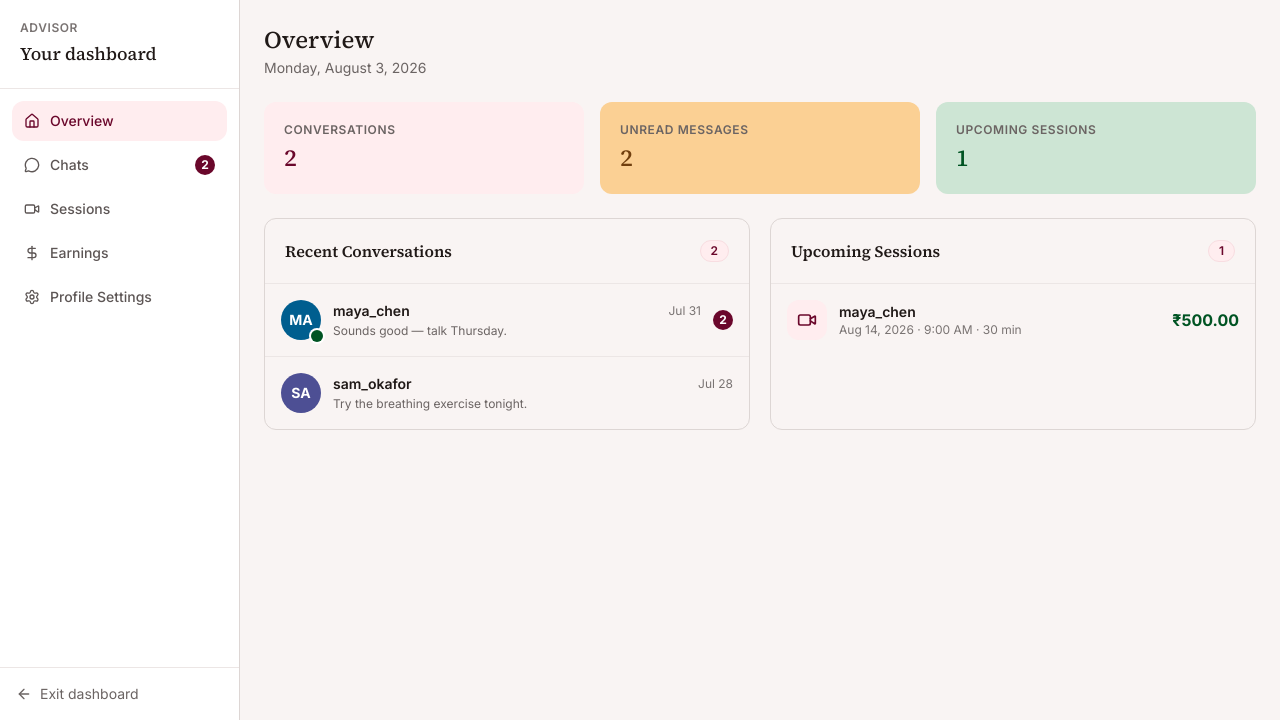
Test: AdvisorDashboardPage › chats tab › filters the rendered list by the search box
The width and height of the screenshot is (1280, 720).
Click the button "Chats 2" at (120, 165), box [12,145,227,185]
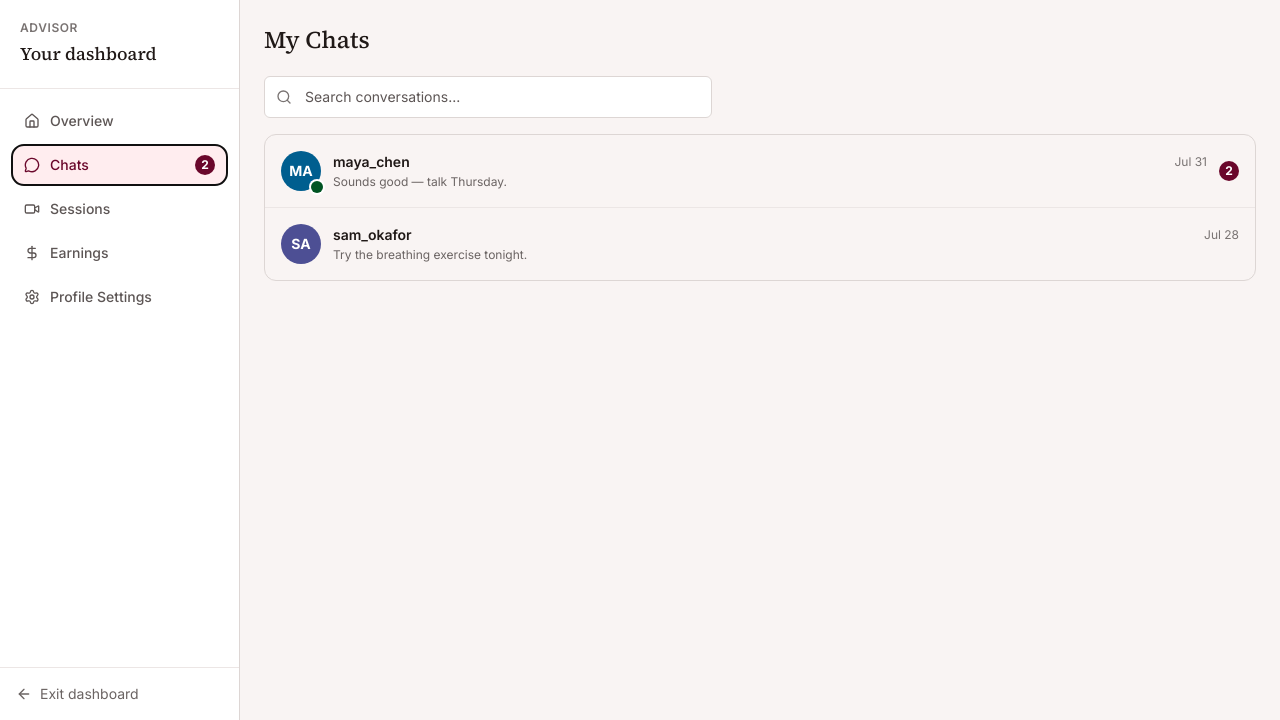
Expected: the text "maya_chen" is shown, [333,152,410,172]
Type "sam" into the field labelled "Search conversations..." at (488, 97), box [264,76,712,118]
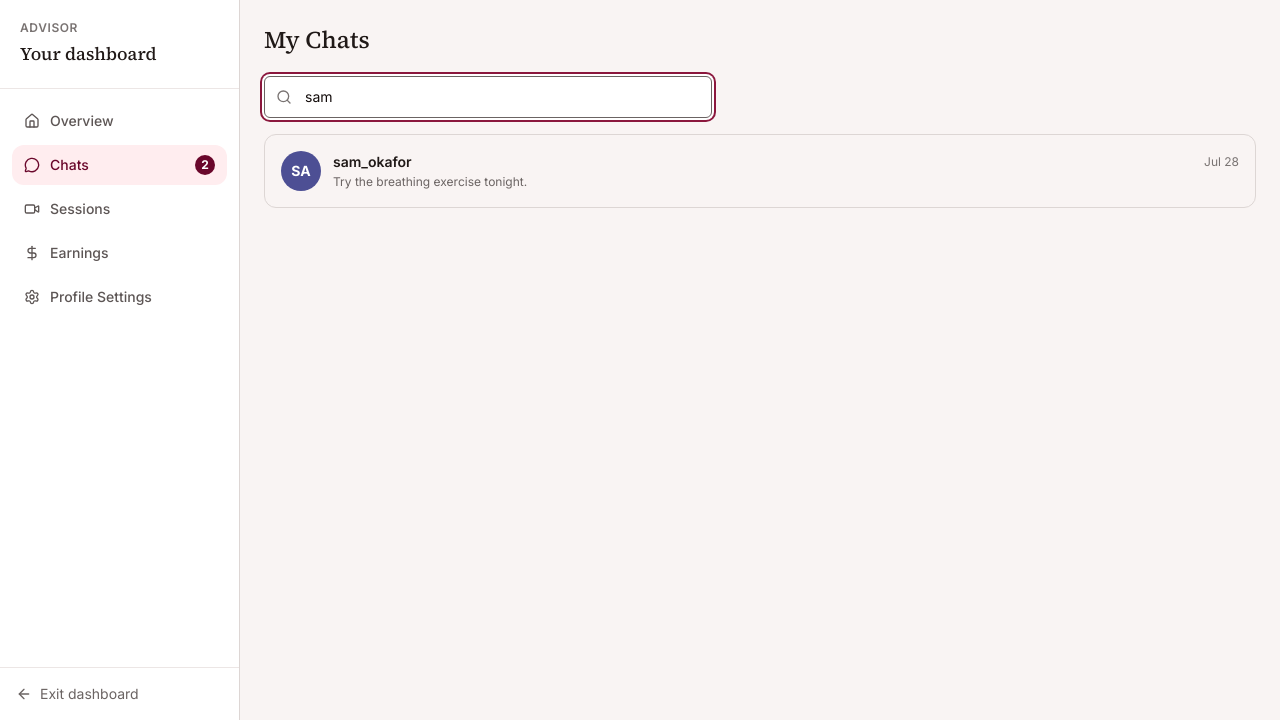
Expected: the text "sam_okafor" is shown, [333,152,412,172]
Expected: the link "maya_chen" is gone
